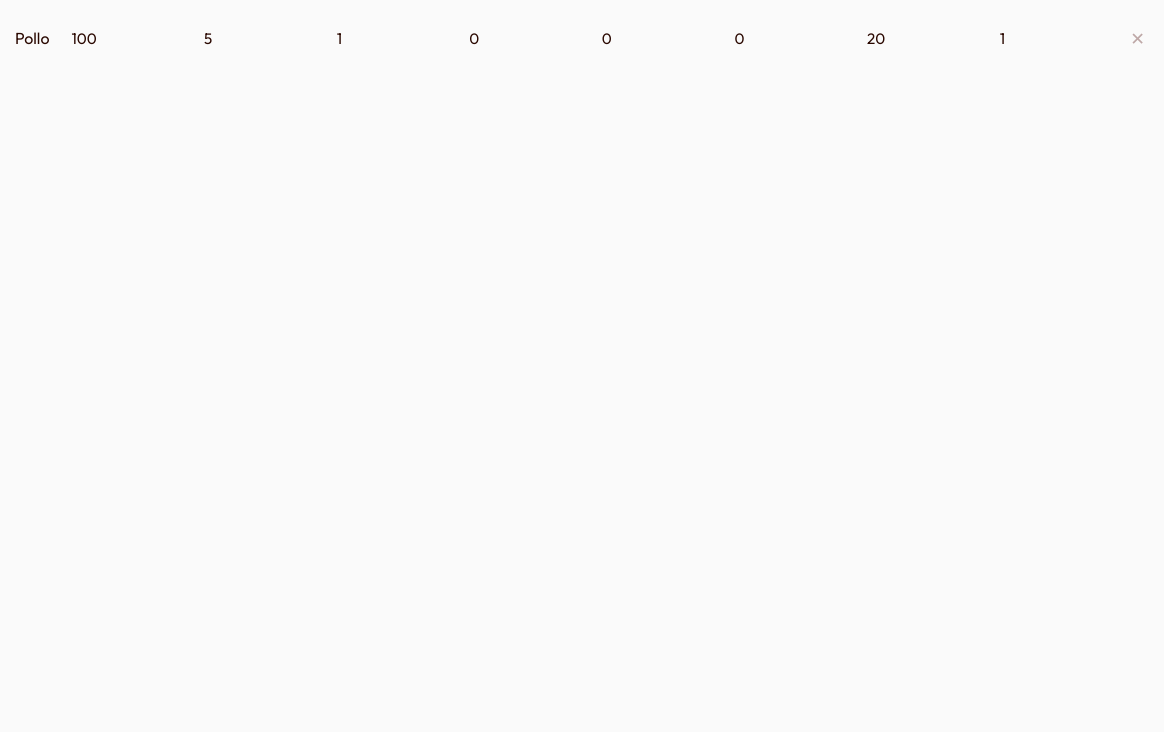
Test: MyAlimentItemList Component › debe gestionar el estado visual readOnly correctamente
This screenshot has width=1164, height=732.
# Focus: Editable
Step 1. Click the 1st field showing "100" → (118, 38), box [54,15,182,62]
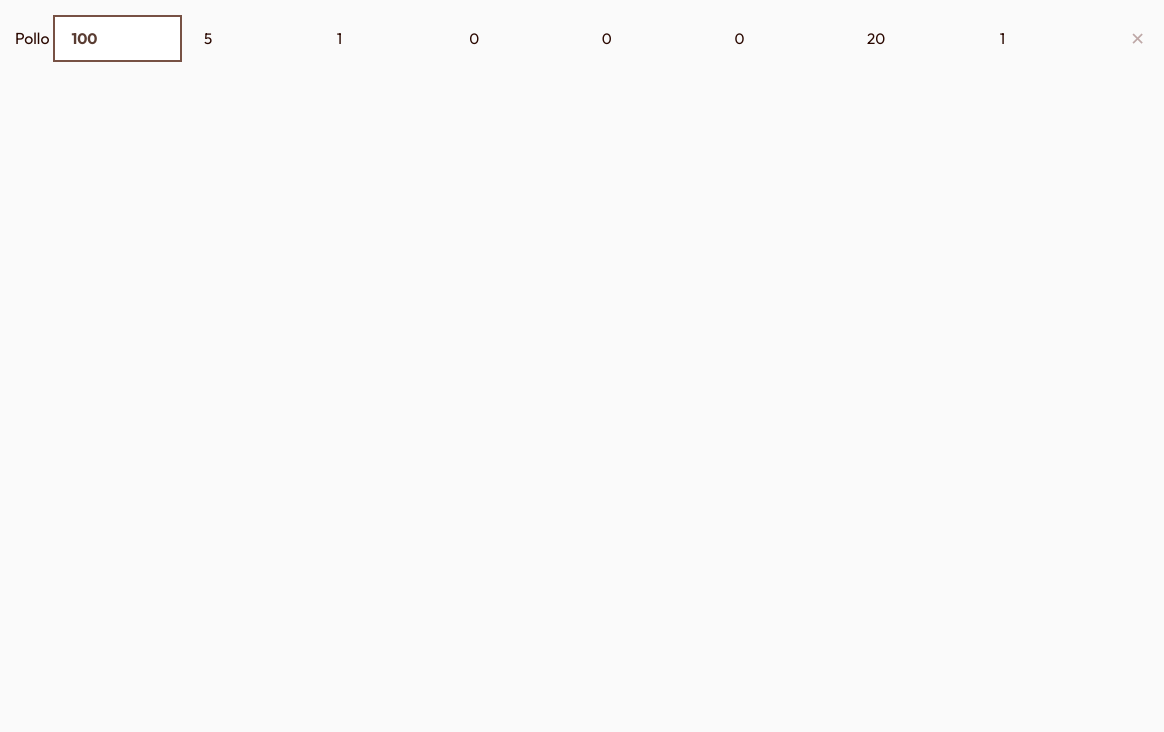
expect the 1st field showing "100" does not have attribute readonly: met, box [54,15,182,62]
# Blur: Solo lectura otra vez
Step 2. Click the element showing "Pollo ✕" → (588, 372), box [12,12,1163,731]
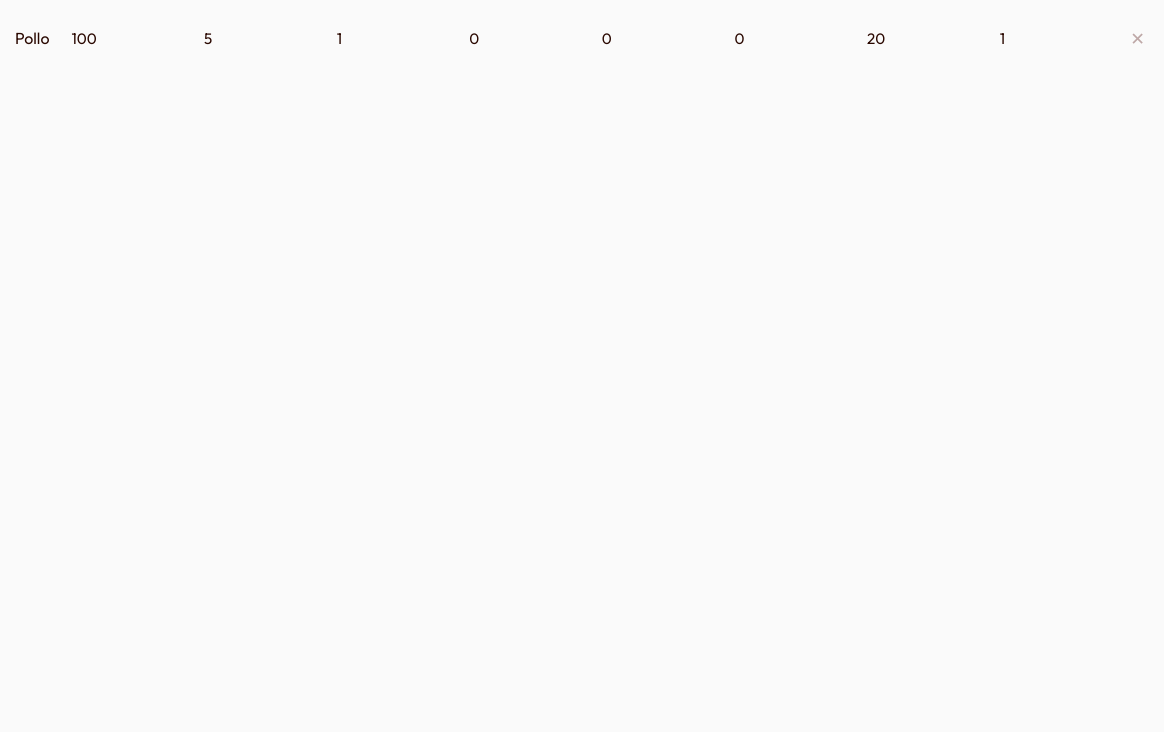
expect the 1st field showing "100" has attribute readonly: met, box [54,15,182,62]
